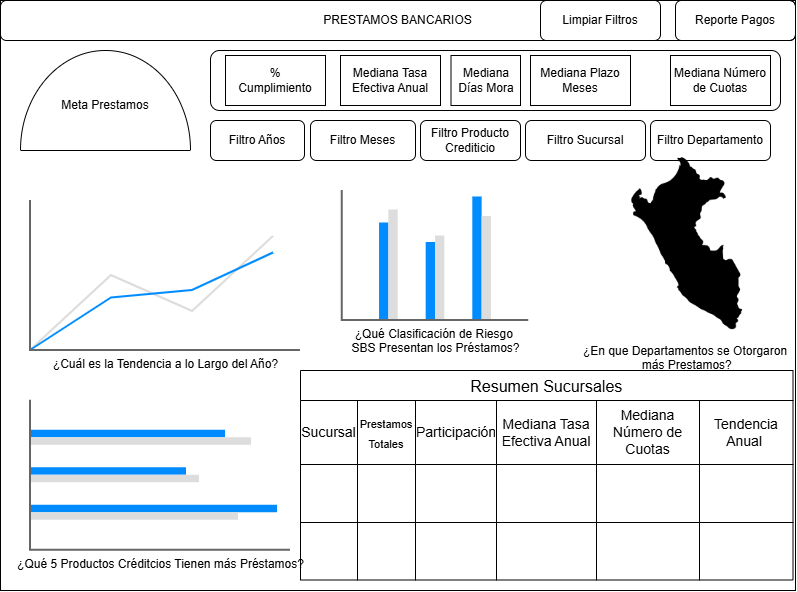

What the dashboard file says about the page in this screenshot:
{"tool":"powerbi","page":{"name":"Prestamos Bancarios","canvas":[1480,1000],"ordinal":0},"visuals":[{"type":"shape","box":[0,0,1480,60],"z":0},{"type":"textbox","box":[366.3,0,747.5,72.9],"z":1000},{"type":"actionButton","box":[1324.3,5.7,151.7,50],"z":2000},{"type":"Tachometer1474636471549","title":"Meta Prestamos","fields":{"Y":["Count(fact_prestamos.prestamo_llave)"],"StartValue":["Valores Termometro Prestamos.valor_inicio_meta"],"EndValue":["Valores Termometro Prestamos.valor_final_del_termometro"],"TargetValue":["Valores Termometro Prestamos.meta_prestamos_anuales"],"Range2StartValue":["Valores Termometro Prestamos.inicio_rango_2"],"Range3StartValue":["Valores Termometro Prestamos.inicio_rango_3"]},"box":[0,73.3,297.5,237.7],"z":3000},{"type":"shape","box":[322.9,72.9,1157.1,132.9],"z":4000},{"type":"cardVisual","fields":{"Data":["Metricas.porcentaje_cumplimiento_meta"]},"box":[323.3,73.3,233.3,131.7],"z":5000},{"type":"cardVisual","fields":{"Data":["Metricas.mediana_tasa_efectiva_anual"]},"box":[581.4,72.9,212.7,133.1],"z":6000},{"type":"cardVisual","fields":{"Data":["Median(fact_prestamos.plazo_meses)"]},"box":[1032.9,72.9,212.7,133.1],"z":7000},{"type":"cardVisual","fields":{"Data":["Median(fact_prestamos.numero_cuotas_total)"]},"box":[1267.1,72.9,212.7,133.1],"z":8000},{"type":"slicer","fields":{"Values":["dim_fechas.Año"]},"box":[323.4,206.2,146.9,110.5],"z":9000},{"type":"slicer","fields":{"Values":["dim_fechas.Numero Mes"]},"box":[463.5,204.8,237.2,144.2],"z":10000},{"type":"slicer","fields":{"Values":["dim_productos_crediticios.nombre_producto"]},"box":[1211.4,204.3,268.6,95.7],"z":11000},{"type":"slicer","fields":{"Values":["dim_sucursales.nombre_sucursal"]},"box":[927.1,204.3,284.3,95.7],"z":12000},{"type":"lineChart","title":"¿Cuál es la Tendencia a lo Largo del Año?","fields":{"Category":["dim_fechas.Nombre Mes"],"Series":["dim_fechas.Año"],"Y":["Count(fact_prestamos.prestamo_llave)"]},"box":[0,323.1,665.2,355.9],"z":13000},{"type":"clusteredBarChart","title":"¿Qué 5 Productos Créditicios Tienen más Préstamos?","fields":{"Category":["dim_productos_crediticios.nombre_producto"],"Y":["CountNonNull(fact_prestamos.prestamo_llave)"]},"box":[0,692.8,665.2,307.5],"z":14000},{"type":"clusteredColumnChart","title":"¿Qué Clasificación de Riesgo SBS Presentan los Prestamos?","fields":{"Category":["fact_prestamos.clasificacion_riesgo_sbs"],"Y":["CountNonNull(fact_prestamos.prestamo_llave)"]},"box":[681.4,322.9,445.7,357.1],"z":15000},{"type":"shapeMap","title":"¿En que Departamentos se Otorgaron más Préstamos?","fields":{"Category":["dim_sucursales.departamento"],"Value":["Count(fact_prestamos.prestamo_llave)"]},"box":[1140,322.9,340,356.7],"z":16000},{"type":"pivotTable","title":"Resumen Sucursales","fields":{"Rows":["dim_sucursales.nombre_sucursal"],"Values":["Count(fact_prestamos.prestamo_llave)","Divide(Count(fact_prestamos.prestamo_llave), ScopedEval(Count(fact_prestamos.prestamo_llave), []))","Median(fact_prestamos.tasa_interes_efectiva_anual)","Median(fact_prestamos.numero_cuotas_total)","SparklineData(Count(fact_prestamos.prestamo_llave)_[dim_fechas.Numero Mes])"]},"box":[681.9,693.2,798.6,307.1],"z":17000},{"type":"cardVisual","fields":{"Data":["Median(fact_prestamos.dias_mora)"]},"box":[805.7,72.9,212.7,133.1],"z":18000},{"type":"actionButton","box":[1157.6,5.2,150.3,50.1],"z":19000},{"type":"slicer","fields":{"Values":["dim_sucursales.departamento"]},"box":[700,205.7,227.1,95.7],"z":20000}]}

Visuals, with their boxes on the page's 1480x1000 design canvas (x1, y1, x2, y2). These are canvas units, not pixel positions in the 797x592 screenshot, which may show the page scaled, cropped or inside an application window:
shape: pyautogui.locateOnScreen(0, 0, 1480, 60)
textbox: pyautogui.locateOnScreen(366, 0, 1114, 73)
actionButton: pyautogui.locateOnScreen(1324, 6, 1476, 56)
"Meta Prestamos" Tachometer1474636471549: pyautogui.locateOnScreen(0, 73, 298, 311)
shape: pyautogui.locateOnScreen(323, 73, 1480, 206)
cardVisual - Metricas.porcentaje_cumplimiento_meta: pyautogui.locateOnScreen(323, 73, 557, 205)
cardVisual - Metricas.mediana_tasa_efectiva_anual: pyautogui.locateOnScreen(581, 73, 794, 206)
cardVisual - Median(fact_prestamos.plazo_meses): pyautogui.locateOnScreen(1033, 73, 1246, 206)
cardVisual - Median(fact_prestamos.numero_cuotas_total): pyautogui.locateOnScreen(1267, 73, 1480, 206)
slicer - dim_fechas.Año: pyautogui.locateOnScreen(323, 206, 470, 317)
slicer - dim_fechas.Numero Mes: pyautogui.locateOnScreen(464, 205, 701, 349)
slicer - dim_productos_crediticios.nombre_producto: pyautogui.locateOnScreen(1211, 204, 1480, 300)
slicer - dim_sucursales.nombre_sucursal: pyautogui.locateOnScreen(927, 204, 1211, 300)
"¿Cuál es la Tendencia a lo Largo del Año?" lineChart: pyautogui.locateOnScreen(0, 323, 665, 679)
"¿Qué 5 Productos Créditicios Tienen más Préstamos?" clusteredBarChart: pyautogui.locateOnScreen(0, 693, 665, 1000)
"¿Qué Clasificación de Riesgo SBS Presentan los Prestamos?" clusteredColumnChart: pyautogui.locateOnScreen(681, 323, 1127, 680)
"¿En que Departamentos se Otorgaron más Préstamos?" shapeMap: pyautogui.locateOnScreen(1140, 323, 1480, 680)
"Resumen Sucursales" pivotTable: pyautogui.locateOnScreen(682, 693, 1480, 1000)
cardVisual - Median(fact_prestamos.dias_mora): pyautogui.locateOnScreen(806, 73, 1018, 206)
actionButton: pyautogui.locateOnScreen(1158, 5, 1308, 55)
slicer - dim_sucursales.departamento: pyautogui.locateOnScreen(700, 206, 927, 301)
